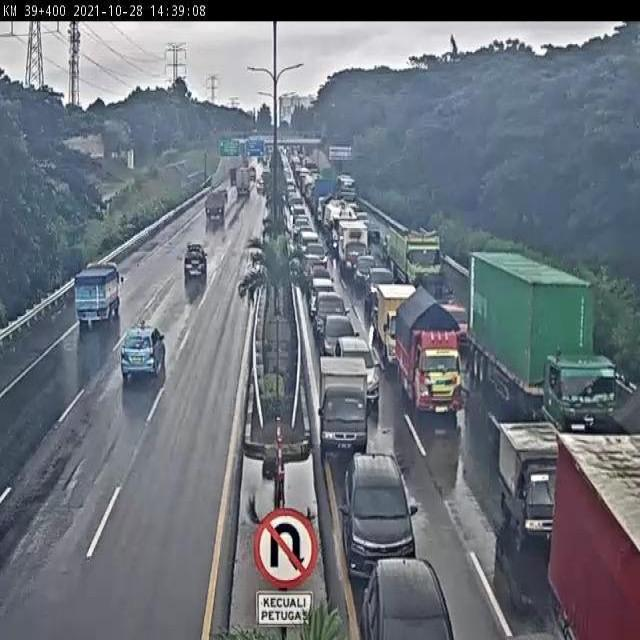car: (336, 445, 432, 580), (362, 546, 457, 640), (119, 317, 170, 383), (331, 335, 382, 393), (319, 307, 367, 355)
truck: (501, 272, 637, 441), (493, 416, 576, 549), (399, 308, 475, 431), (316, 356, 375, 456), (72, 255, 123, 331), (378, 283, 418, 367)
